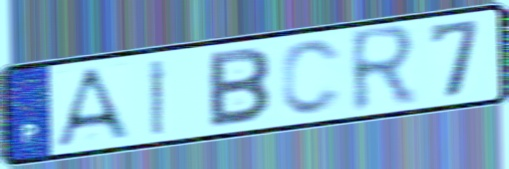7: (426, 17, 486, 101)
A: (52, 65, 135, 150)
B: (206, 45, 273, 131)
C: (278, 37, 345, 119)
I: (147, 56, 169, 139)
R: (347, 21, 422, 118)
